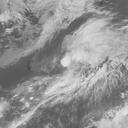cyclone: (61, 18, 121, 92)
